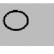no answer: (1, 6, 31, 34)
